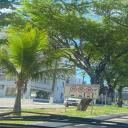speed_limit_40: (86, 88, 93, 92)
speed_limit_50: (70, 87, 77, 92), (78, 87, 84, 92)
